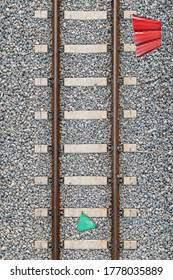Color_steel: (132, 9, 166, 62)
Dust_screen: (80, 208, 97, 231)
